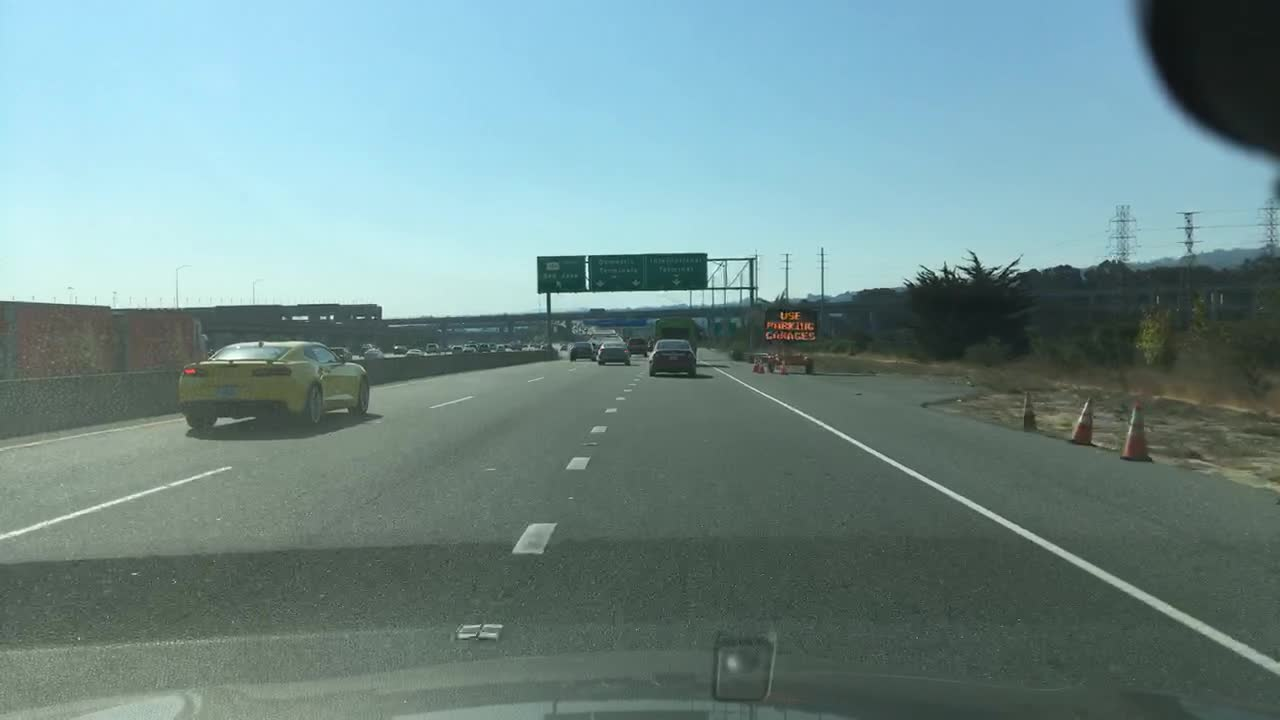bus: (655, 316, 701, 347), (588, 306, 605, 312)
car: (176, 339, 371, 430), (647, 338, 698, 378), (593, 340, 632, 364), (624, 336, 648, 358), (569, 341, 593, 362), (588, 336, 630, 347), (328, 345, 355, 362), (390, 341, 406, 355), (366, 348, 386, 359), (424, 343, 441, 355), (499, 339, 514, 350), (359, 343, 376, 352), (512, 339, 527, 348), (477, 341, 491, 350), (557, 340, 568, 351), (574, 329, 593, 335), (529, 341, 545, 348), (449, 344, 463, 352), (488, 341, 499, 351), (460, 345, 477, 351), (407, 351, 426, 356)
traffic sign: (647, 255, 711, 288), (587, 256, 647, 288), (536, 253, 584, 288), (767, 311, 818, 342)
